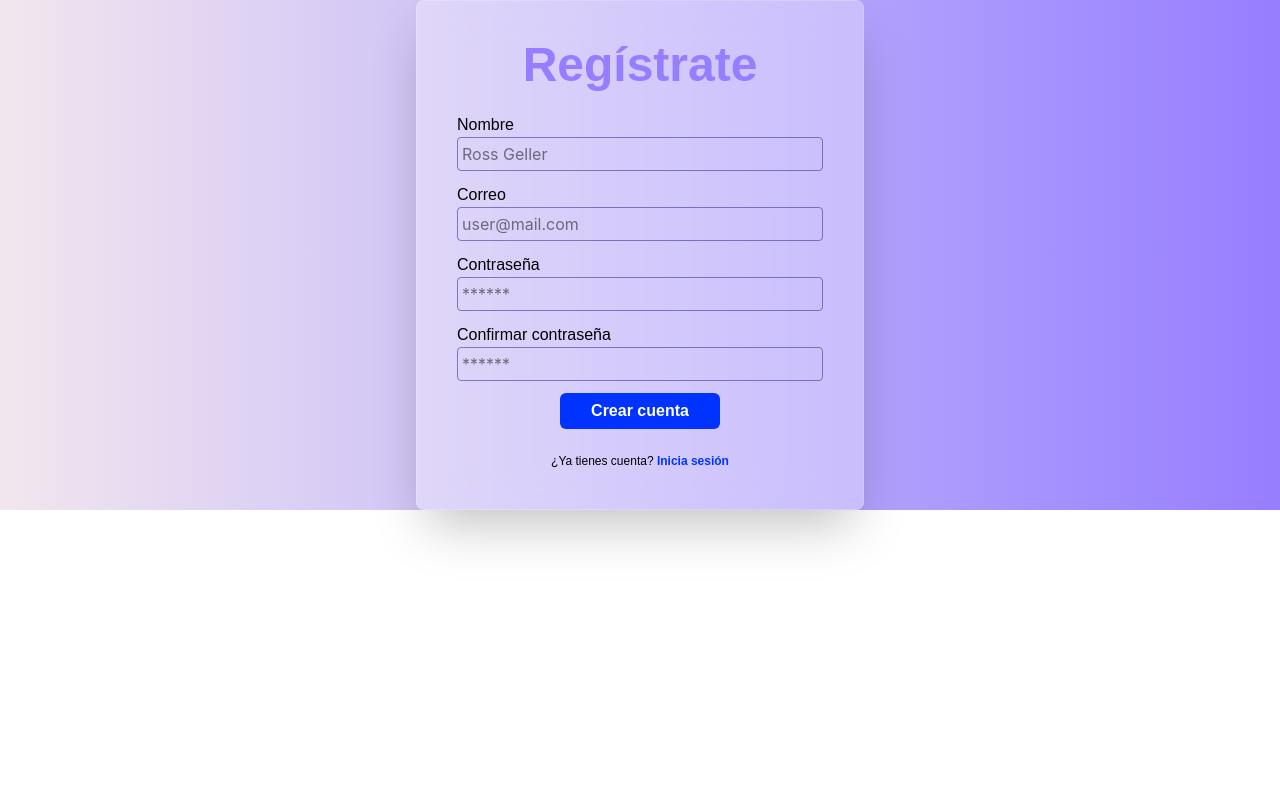
Componente Register › debe mostrar mensaje de error al enviar formulario vacío
This screenshot has width=1280, height=800.
Click the button "Crear cuenta".
click(640, 411)  # box [560,393,720,429]
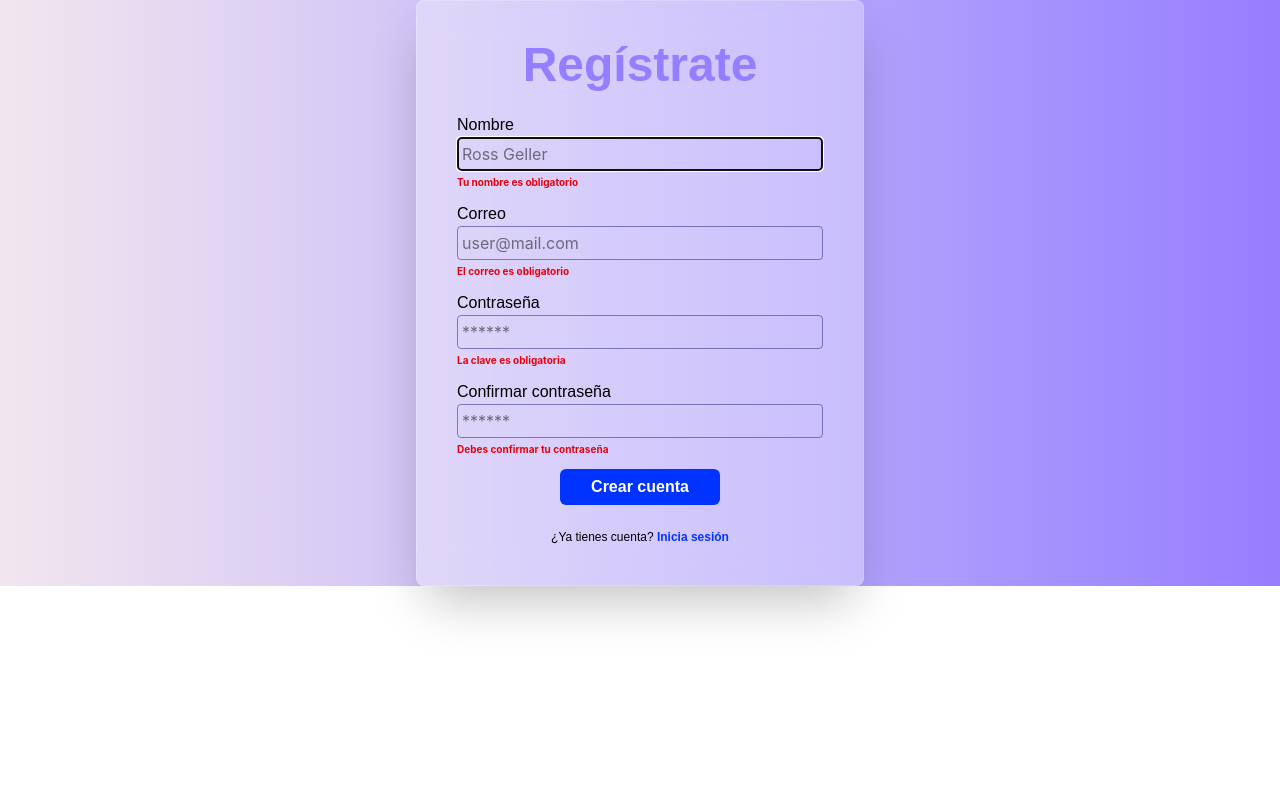
Expected: the text "Tu nombre es obligatorio" is shown, [457,176,578,188]
Expected: the text "El correo es obligatorio" is shown, [457,265,569,277]
Expected: the text "La clave es obligatoria" is shown, [457,354,565,366]
